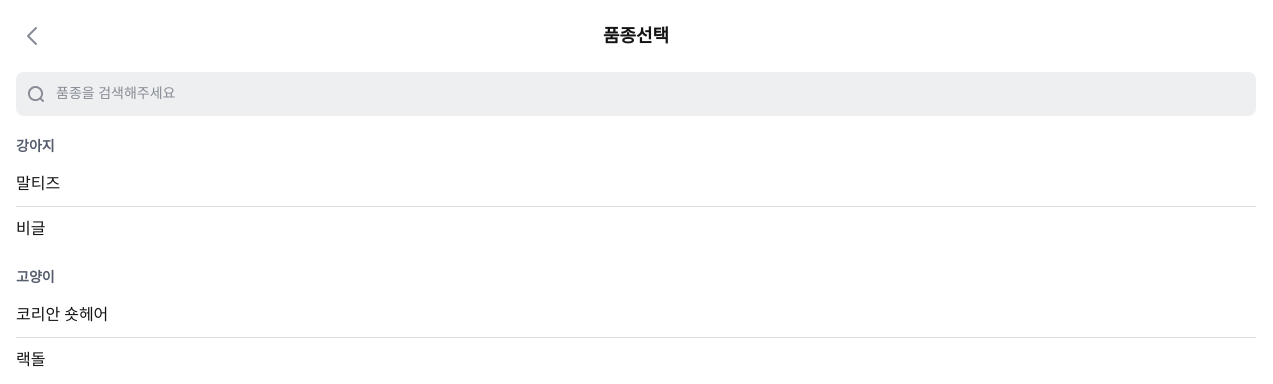
Scenario: 검색창에 치면 목록이 걸러지고 지우면 돌아온다
Expected: the button "비글" is shown, 16,207 -> 1256,251
Type "말티" into the field named "품종 검색". click: coordinates (636, 94)
box: 16,72 -> 1256,116
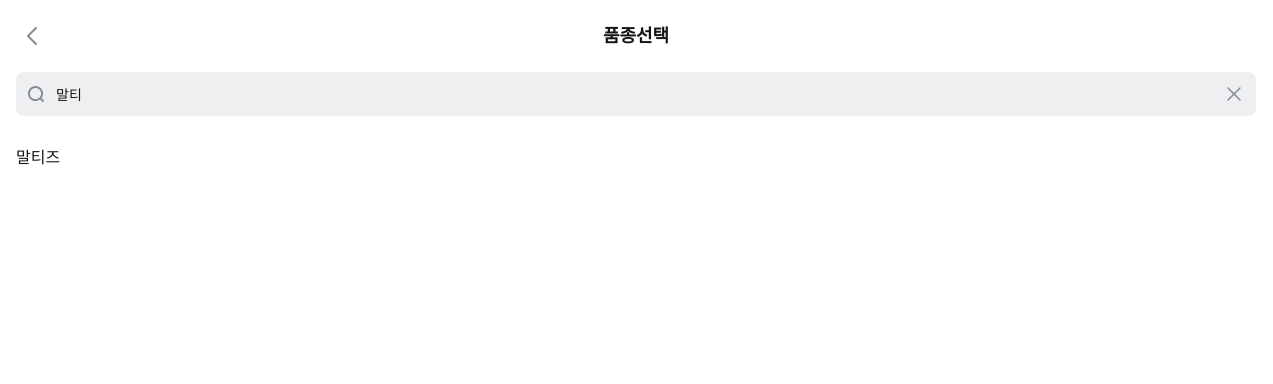
Expected: the button "비글" is gone
Click the button named "입력 지우기". click: coordinates (1234, 94)
box: 1212,72 -> 1256,116
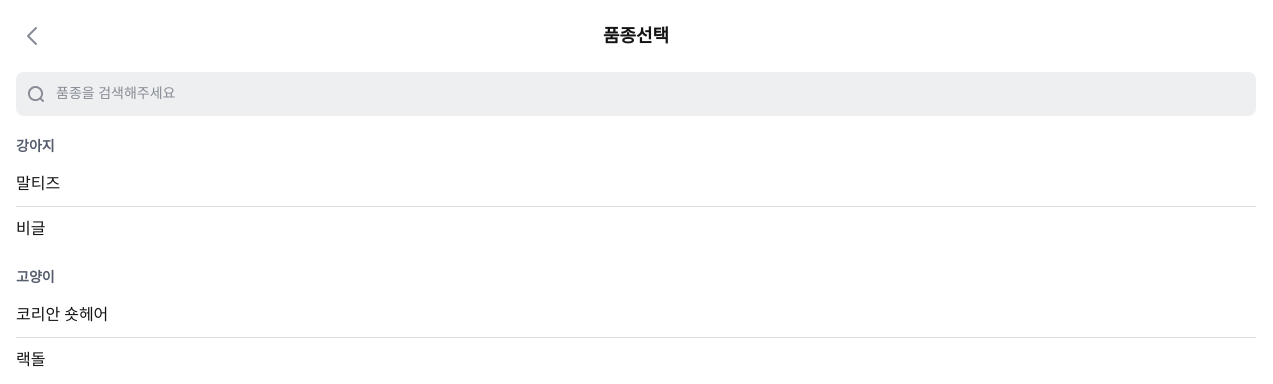
Expected: the button "비글" is shown, 16,207 -> 1256,251
